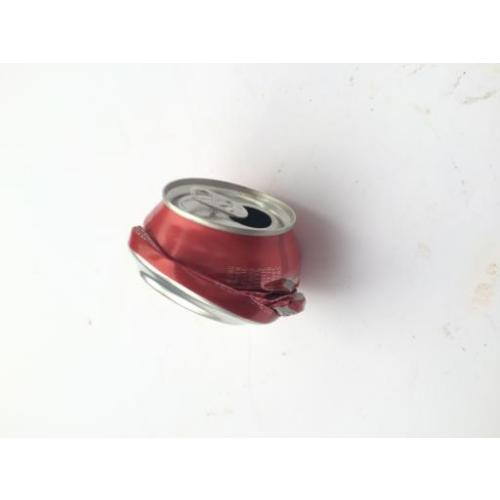metal: (128, 175, 308, 325)
